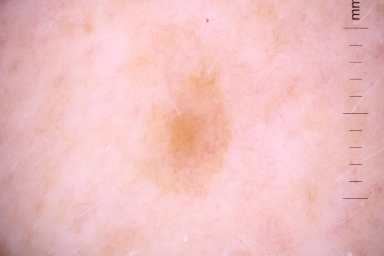nevus: (171, 78, 231, 200)
